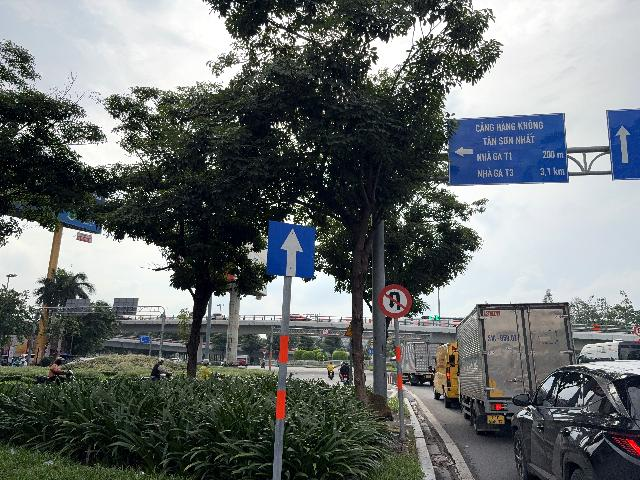cam-quay-dau-xe: (378, 284, 412, 319)
duong-mot-chieu: (266, 220, 316, 279)
